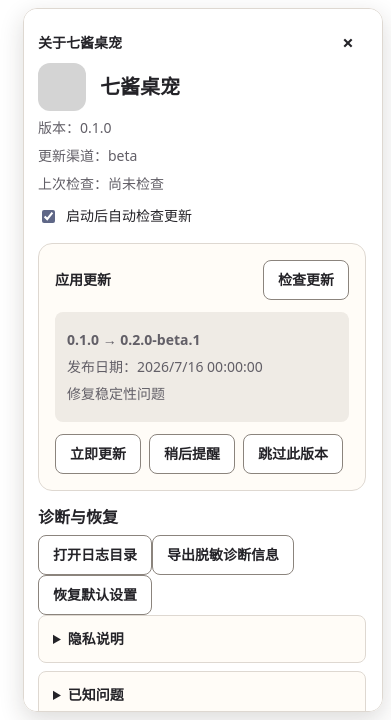
UpdatePanel › releases the native pending update before showing postponed
The width and height of the screenshot is (391, 720).
Step 1. Click the button "稍后提醒" → (192, 454), box [149,434,235,474]
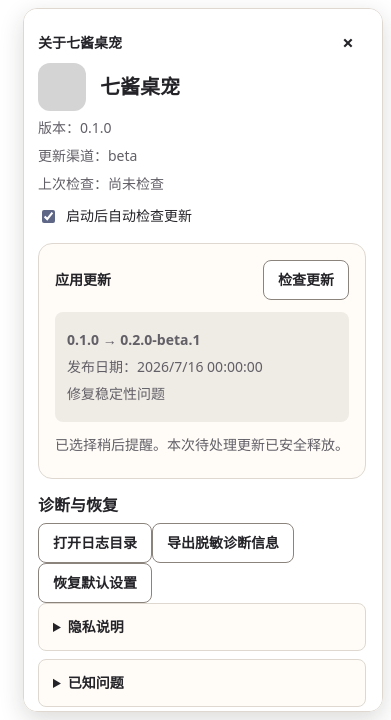
Check: the text "已选择稍后提醒。本次待处理更新已安全释放。" is shown, box [55,434,349,456]
